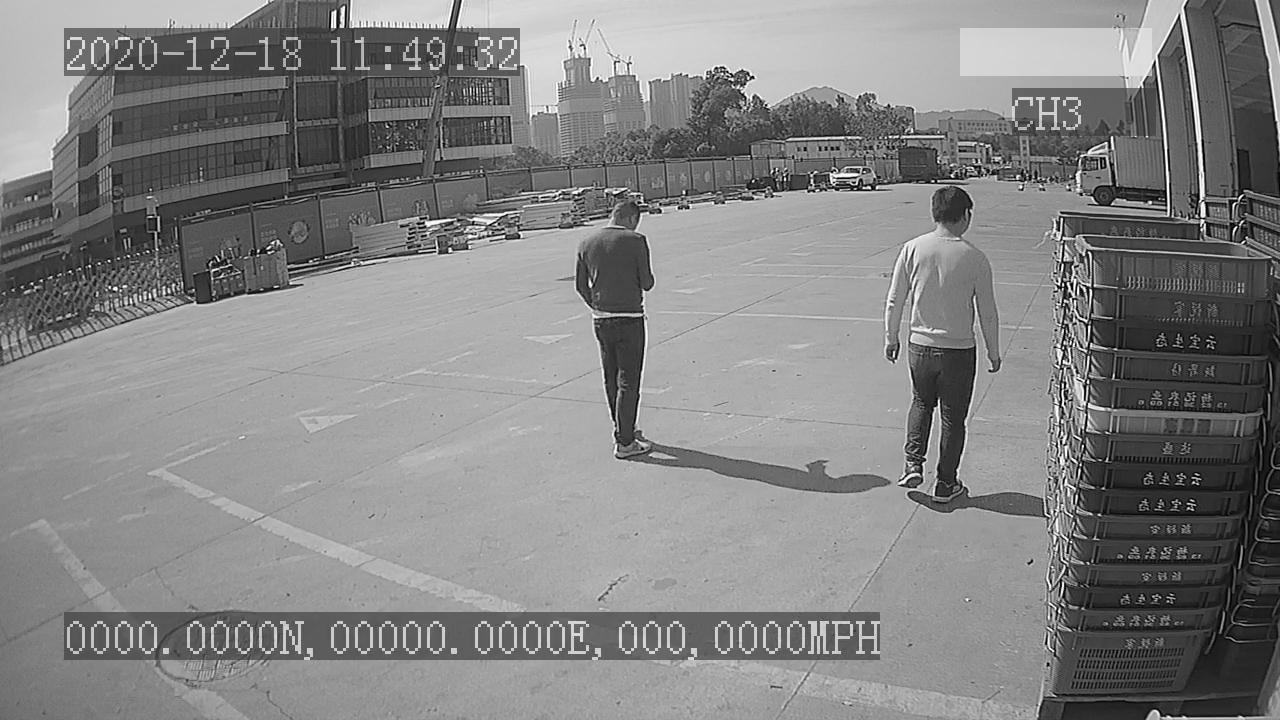person: (879, 181, 1006, 515), (570, 199, 663, 463)
